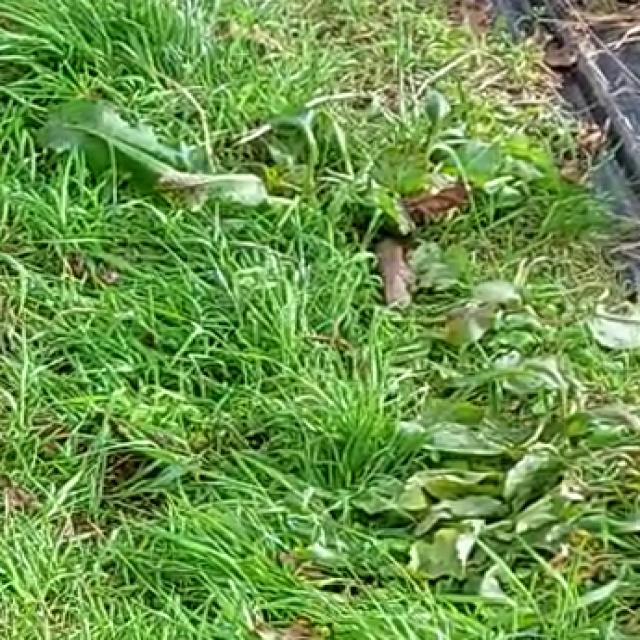organic waste: (29, 55, 413, 263), (328, 344, 640, 595)
